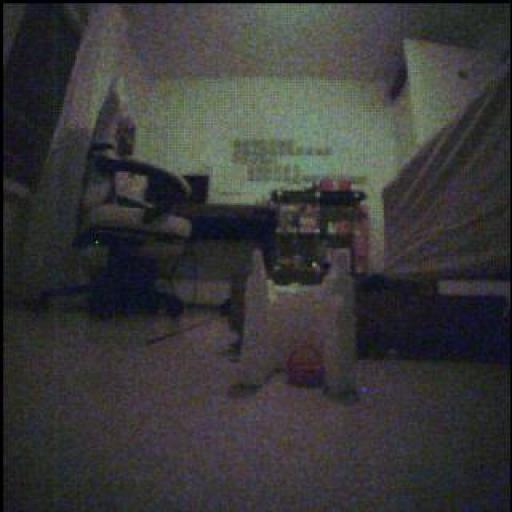basket: (287, 345, 326, 388)
